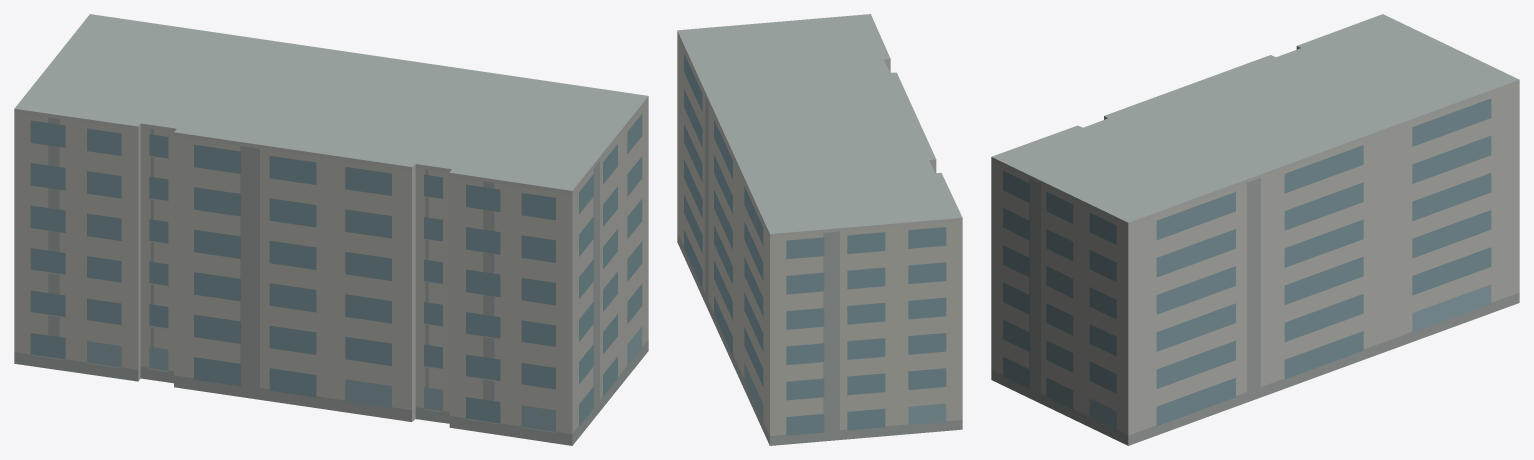
File: survey-upis-32935426.glb
The picture shows the model from 3 angles, left to right: view 1: azimuth 30°, elevation 25°; view 2: azimuth 150°, elevation 25°; view 3: azimuth 270°, elevation 25°; orthographic projection. The views are drawn at different scales.
Visible parts, largest first — view 1: survey-upis-32935426.tmp; view 2: survey-upis-32935426.tmp; view 3: survey-upis-32935426.tmp.
Part boxes in pixels (bbox=[...]): survey-upis-32935426.tmp: bbox=[14, 14, 648, 445]; survey-upis-32935426.tmp: bbox=[677, 14, 962, 445]; survey-upis-32935426.tmp: bbox=[991, 14, 1519, 445].
Size of the model in its own units: 32.72 by 16.3 by 34.99.
